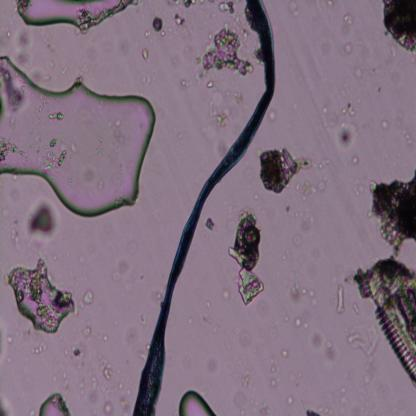Air bubble: (0, 58, 160, 224), (3, 257, 74, 332), (17, 0, 133, 29), (176, 391, 218, 416), (36, 392, 70, 416)
Background material: (370, 176, 416, 253), (228, 209, 264, 307), (204, 22, 256, 81), (259, 147, 318, 196), (380, 0, 416, 55), (23, 197, 56, 241), (0, 65, 29, 110), (348, 319, 379, 360), (41, 137, 70, 177), (206, 88, 232, 132), (0, 126, 28, 164), (13, 24, 35, 67), (290, 280, 319, 306), (310, 330, 334, 361), (300, 176, 327, 202), (96, 350, 116, 382), (111, 255, 132, 283), (336, 116, 354, 147), (332, 280, 348, 312), (198, 311, 221, 333), (10, 218, 24, 252), (28, 67, 53, 84), (339, 96, 358, 118), (165, 22, 191, 36), (400, 124, 416, 146), (117, 391, 131, 416), (124, 322, 138, 347), (79, 288, 97, 307), (232, 389, 245, 414), (236, 328, 254, 346), (71, 340, 86, 360), (153, 15, 167, 36), (255, 298, 271, 316), (0, 393, 13, 415), (50, 110, 70, 124), (238, 366, 252, 386), (30, 339, 47, 355), (76, 373, 87, 397), (288, 0, 303, 17), (90, 374, 99, 401), (170, 11, 186, 26), (147, 290, 163, 305), (317, 154, 332, 170), (216, 0, 233, 14), (60, 370, 70, 391), (267, 106, 278, 125), (206, 355, 218, 372), (171, 0, 200, 7), (258, 399, 270, 415), (342, 14, 355, 28), (344, 38, 355, 54), (268, 354, 277, 373), (104, 400, 116, 414), (80, 325, 92, 339), (379, 115, 391, 129), (1, 28, 15, 40), (304, 407, 322, 416), (355, 62, 364, 80), (194, 68, 205, 82), (232, 90, 244, 102), (339, 385, 347, 403), (126, 241, 138, 253), (220, 286, 231, 299), (0, 206, 10, 220), (206, 217, 216, 231), (140, 45, 149, 60), (293, 231, 302, 246), (283, 394, 295, 404), (294, 315, 303, 328), (6, 334, 15, 346), (143, 29, 153, 39), (116, 379, 124, 391), (139, 311, 147, 323), (205, 80, 215, 89), (180, 78, 189, 88), (280, 347, 288, 358), (2, 354, 13, 362), (326, 0, 335, 8), (302, 321, 310, 330), (353, 154, 359, 164), (139, 272, 145, 282), (284, 312, 290, 322), (272, 378, 277, 389), (103, 333, 108, 343), (194, 56, 200, 64), (145, 342, 151, 349), (28, 410, 34, 416), (377, 85, 381, 93), (64, 348, 68, 355)
Cotton: (132, 1, 278, 415)
Diatom: (355, 249, 416, 380)
